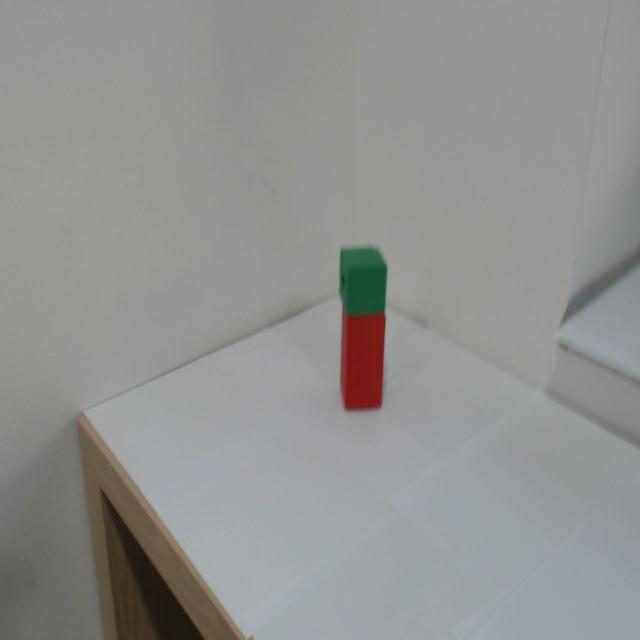cube: (320, 236, 395, 315)
